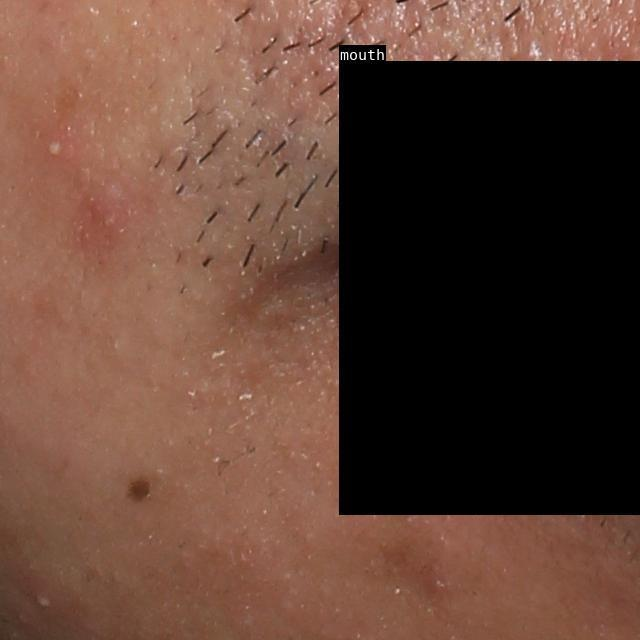nevus: (125, 475, 152, 504)
papule: (83, 192, 130, 239)
pustule: (42, 135, 71, 164)
